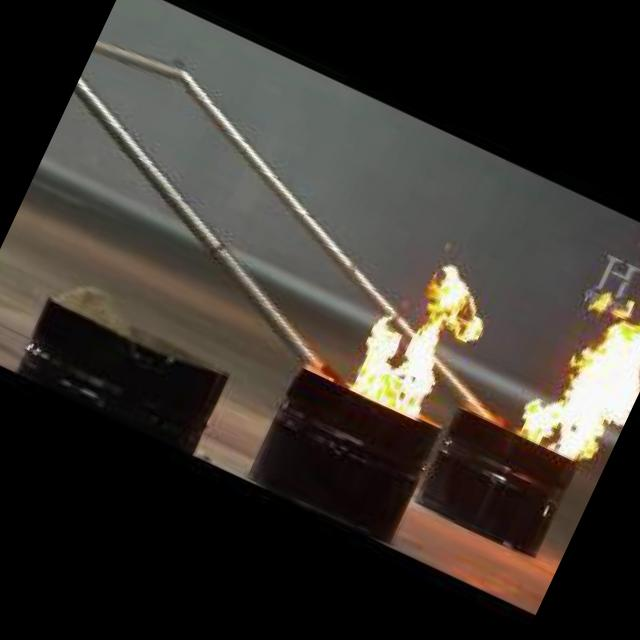fire: (477, 247, 640, 492), (327, 232, 502, 428)
